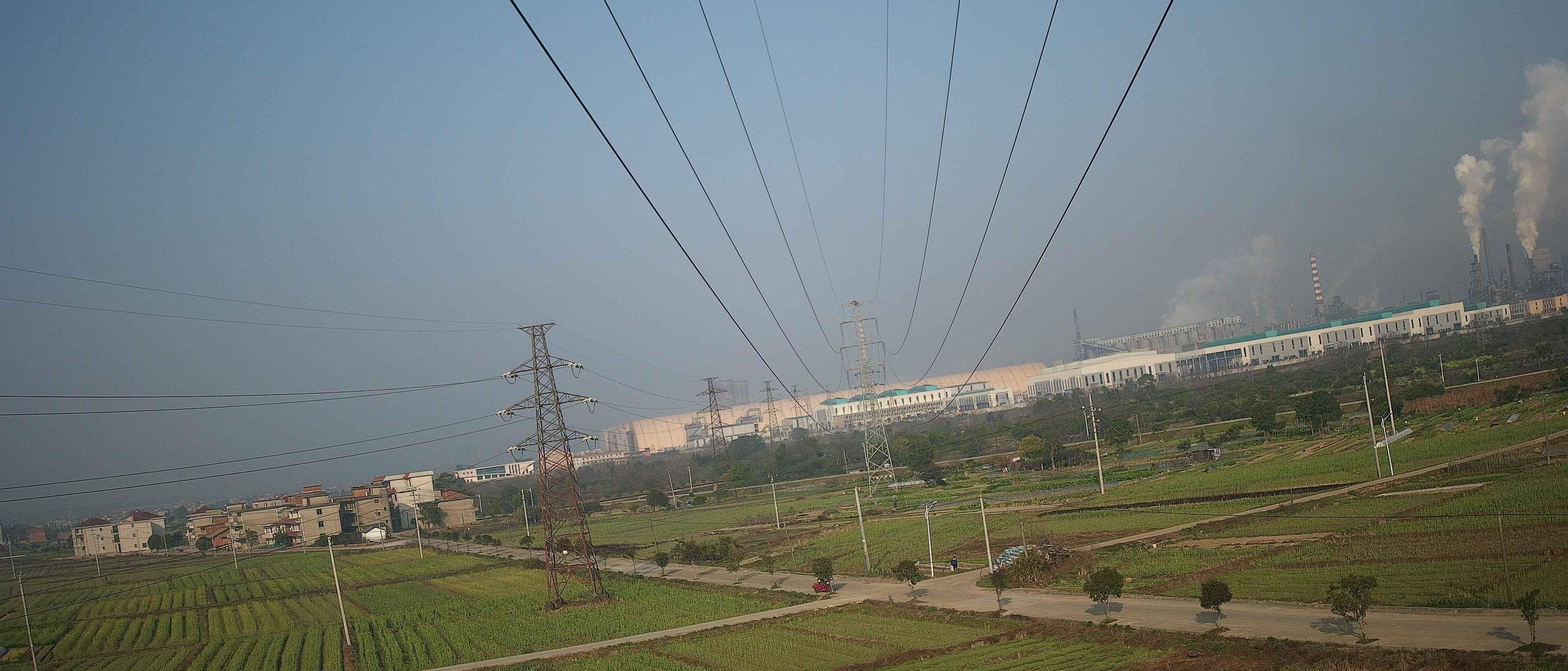工厂排烟: (1505, 49, 1568, 260), (1155, 231, 1279, 331), (1319, 216, 1418, 311), (1453, 134, 1516, 264)
